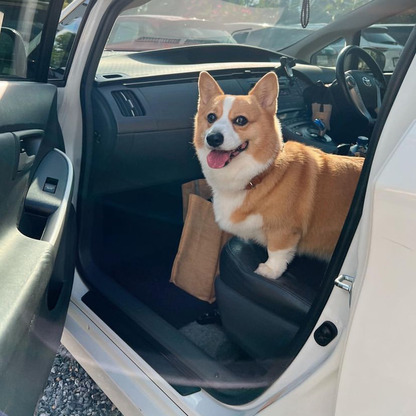Corgi: (188, 58, 331, 285)
